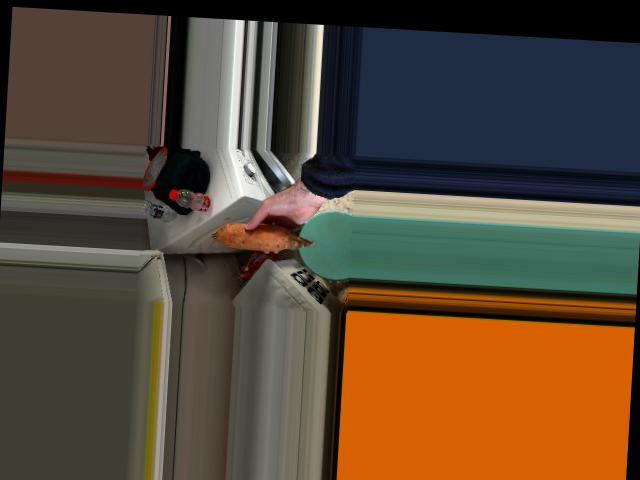sweet_potato: (214, 223, 302, 251)
